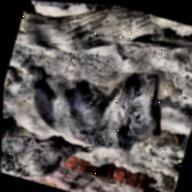boar: (7, 29, 192, 180)
